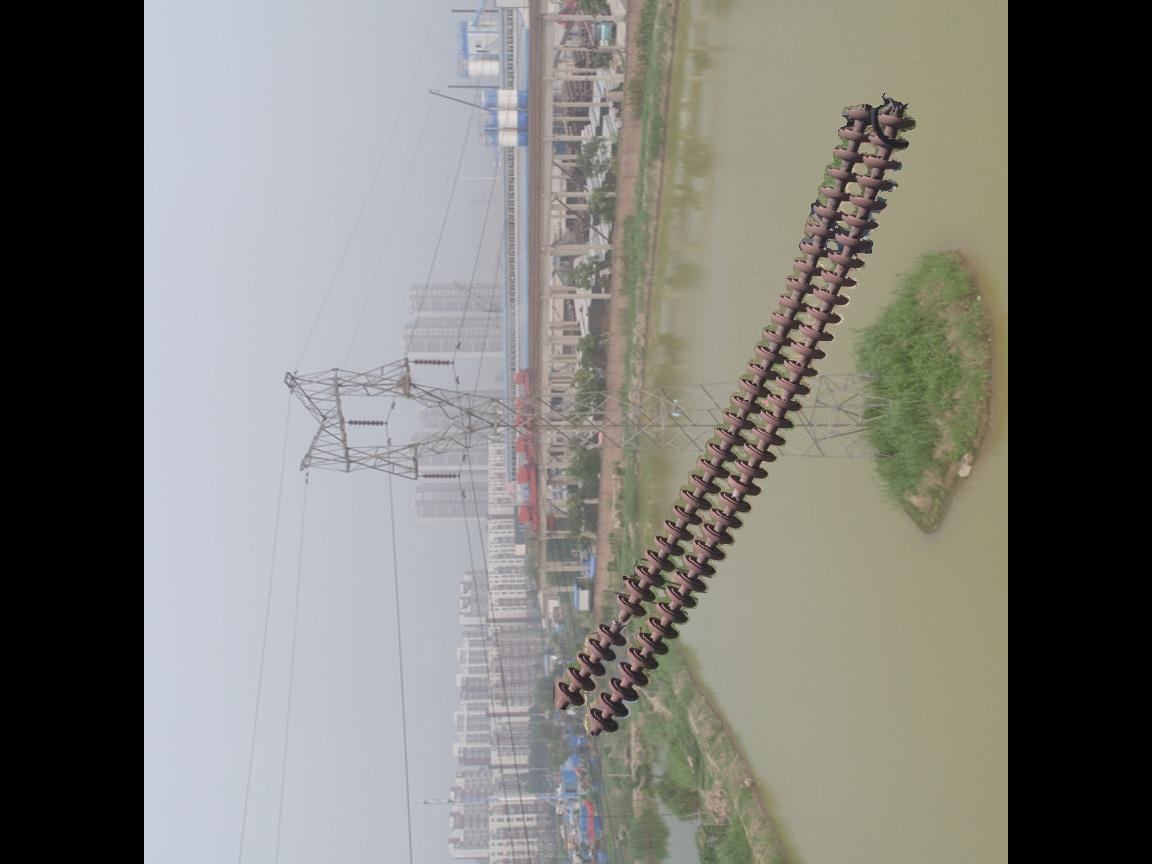insulator: (552, 99, 922, 741), (407, 355, 454, 369), (345, 416, 386, 431), (420, 469, 459, 484)
insulator_stringdrop: (593, 591, 649, 649)
